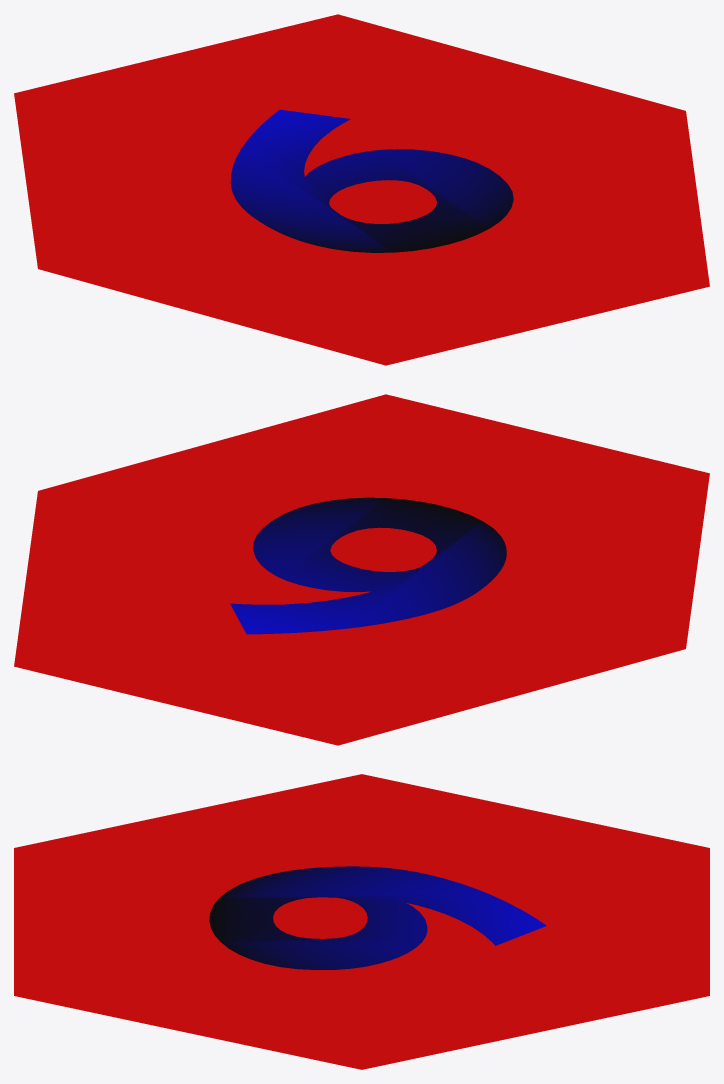
Rendered from SM_Number_6.fbx.
The picture shows the model from 3 angles, top to bottom: view 1: azimuth 30°, elevation 25°; view 2: azimuth 150°, elevation 25°; view 3: azimuth 270°, elevation 25°; orthographic projection. The views are drawn at different scales.
Parts seen in each view (by area): view 1: FBX_OUT; view 2: FBX_OUT; view 3: FBX_OUT.
Boxes of the visible parts, x1,y1,x2,y2 form: FBX_OUT: (14, 14, 709, 365); FBX_OUT: (14, 394, 709, 745); FBX_OUT: (14, 774, 709, 1069).
Size of the model in its own units: 50 by 0.2917 by 49.71.
